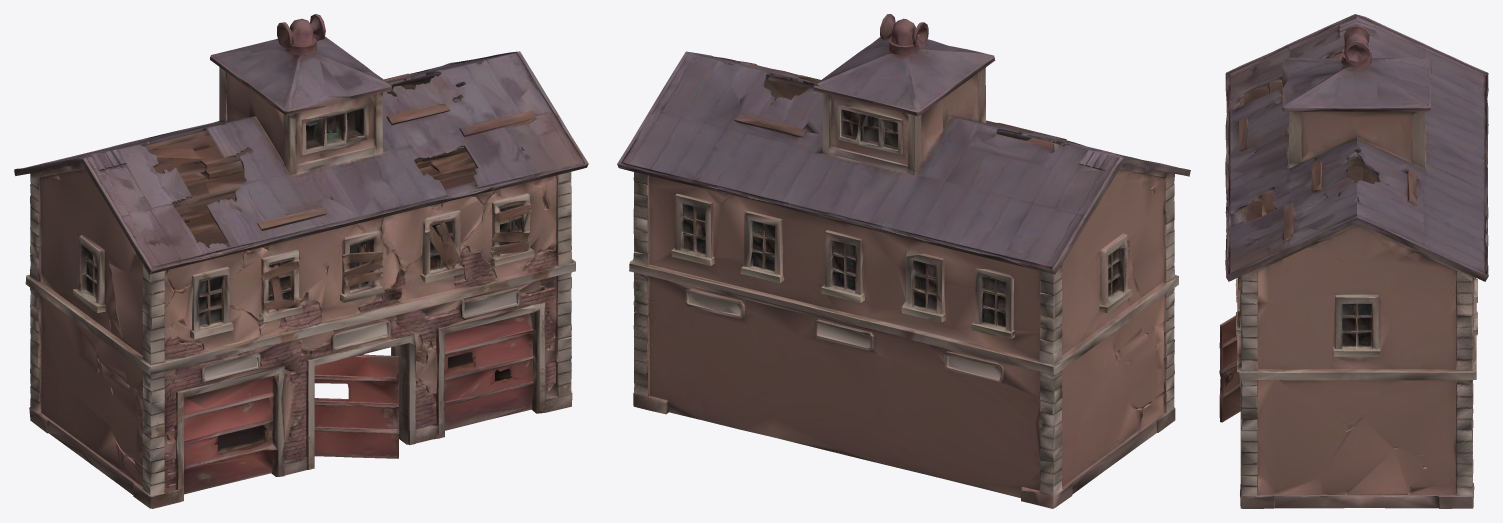
File: house_garage_b_idle.glb
The picture shows the model from 3 angles, left to right: view 1: azimuth 30°, elevation 25°; view 2: azimuth 150°, elevation 25°; view 3: azimuth 270°, elevation 25°; orthographic projection. The views are drawn at different scales.
Visible parts, largest first — view 1: tripo_node_bce4e66f-ad19-41f2-83ad-996d0d0666a5; view 2: tripo_node_bce4e66f-ad19-41f2-83ad-996d0d0666a5; view 3: tripo_node_bce4e66f-ad19-41f2-83ad-996d0d0666a5.
Boxes of the visible parts, x1,y1,x2,y2 form: tripo_node_bce4e66f-ad19-41f2-83ad-996d0d0666a5: (14,14,588,508); tripo_node_bce4e66f-ad19-41f2-83ad-996d0d0666a5: (617,14,1190,508); tripo_node_bce4e66f-ad19-41f2-83ad-996d0d0666a5: (1219,14,1488,508).
Size of the model in its own units: 12 by 10.34 by 6.68.
1 material, 1 textured.
